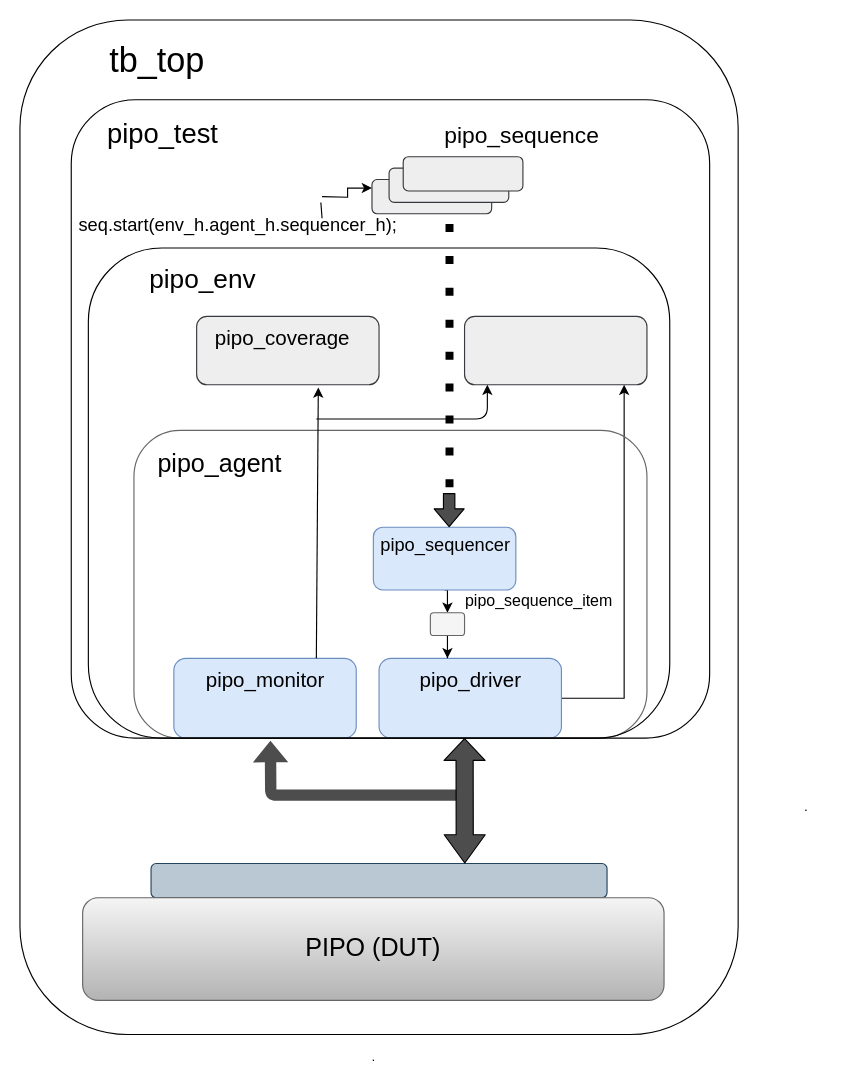
Image size: 849x1089. Some labels were removed from this diagram. The shapes that lost their labels are listed below. From the top down, each one's box as (x1, y1, x2, y2) in pixels, then its label:
(463, 315, 647, 385): pipo_scoreboard
(150, 862, 607, 898): interface
